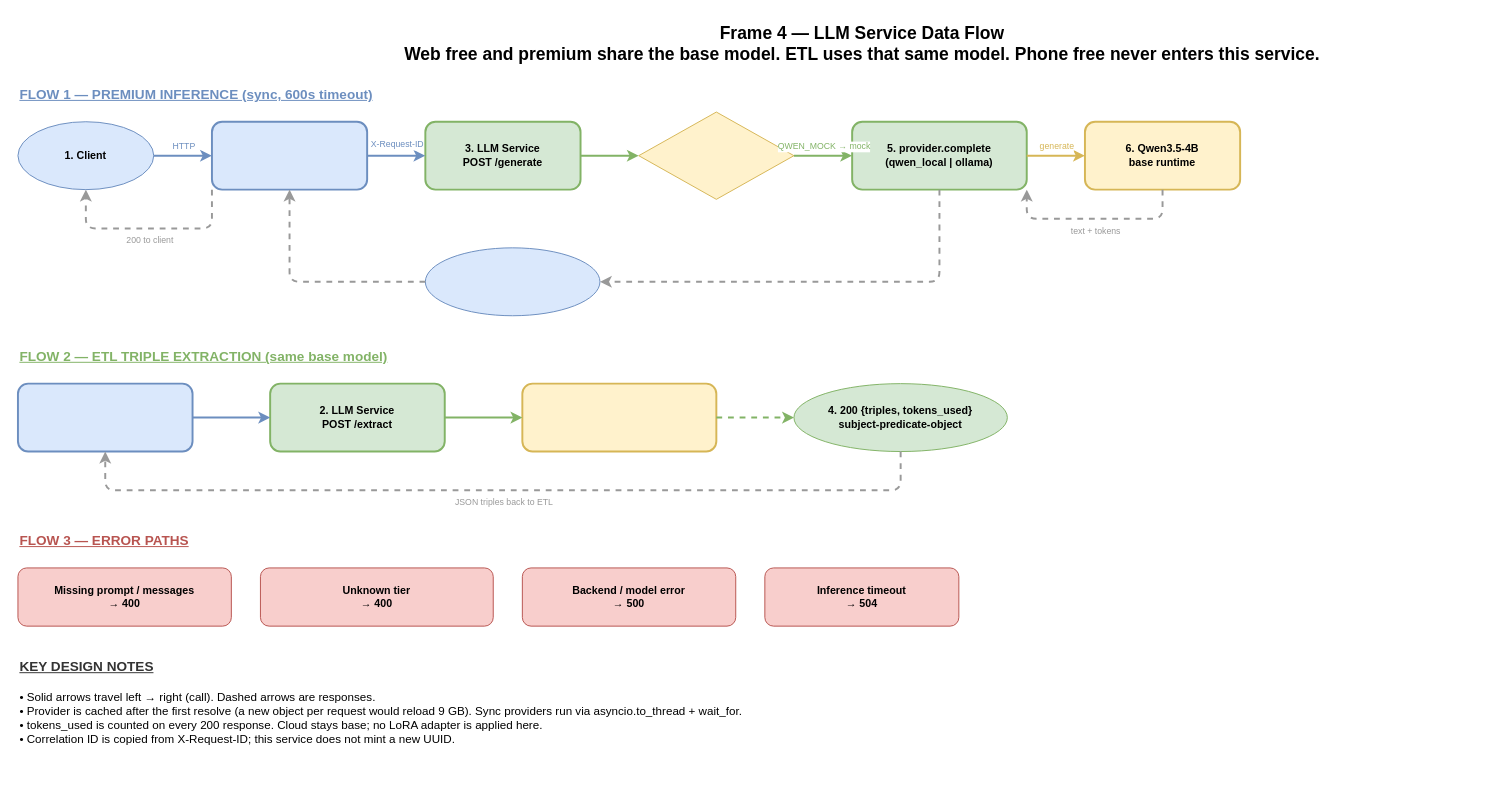
Image size: 1508x788. Some labels were removed from this diagram. The box of each missing label's shape, as (x1, y1, x2, y2) in pixels:
1. ETL Service document content: (16, 382, 193, 452)
2. API Router POST /api/chat: (210, 120, 368, 190)
3. Qwen3.5-4B base reasons over content: (521, 382, 717, 452)
4. resolver LLM_BACKEND + tier: (638, 111, 794, 199)
7. 200 {response, tokens_used}: (424, 247, 600, 316)
